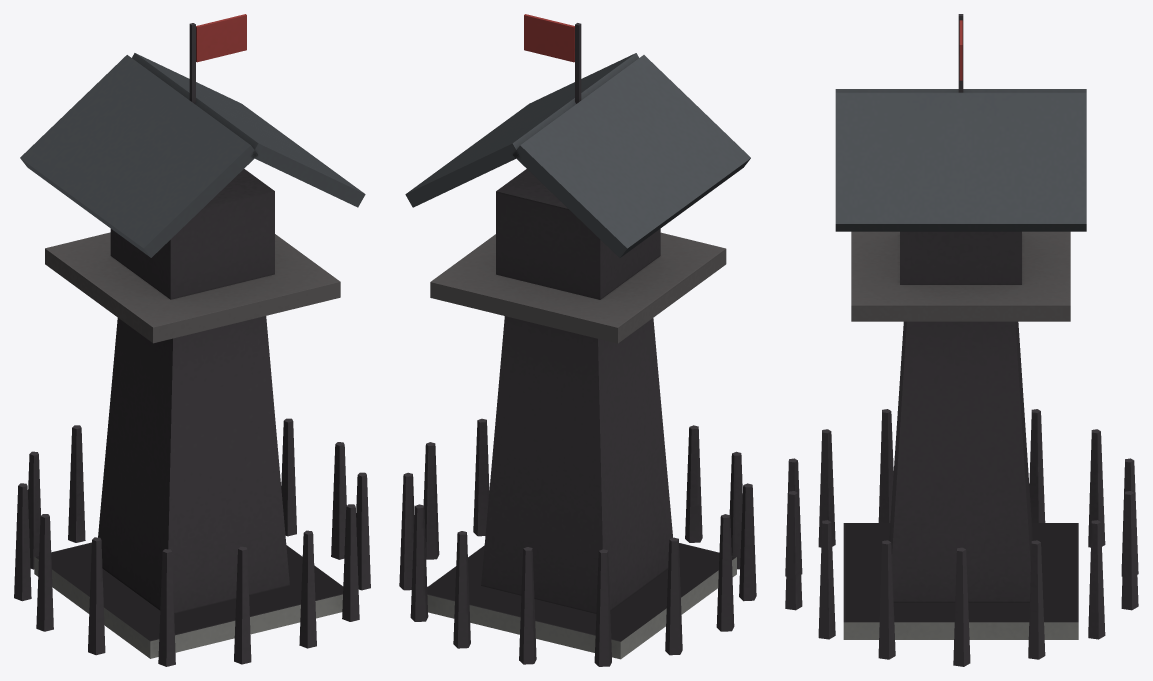
The model's file is BLD_tower.fbx.
3 views of the same model, side by side, from view 1: azimuth 30°, elevation 25°; view 2: azimuth 150°, elevation 25°; view 3: azimuth 270°, elevation 25° (orthographic).
Visible parts, largest first — view 1: BLD_tower; view 2: BLD_tower; view 3: BLD_tower.
Boxes of the visible parts, bbox=[...] form: BLD_tower: bbox=[14, 14, 370, 666]; BLD_tower: bbox=[399, 14, 756, 666]; BLD_tower: bbox=[785, 14, 1138, 666].
Bounding box in the file's own units: 92.57 × 162 × 90.14.
